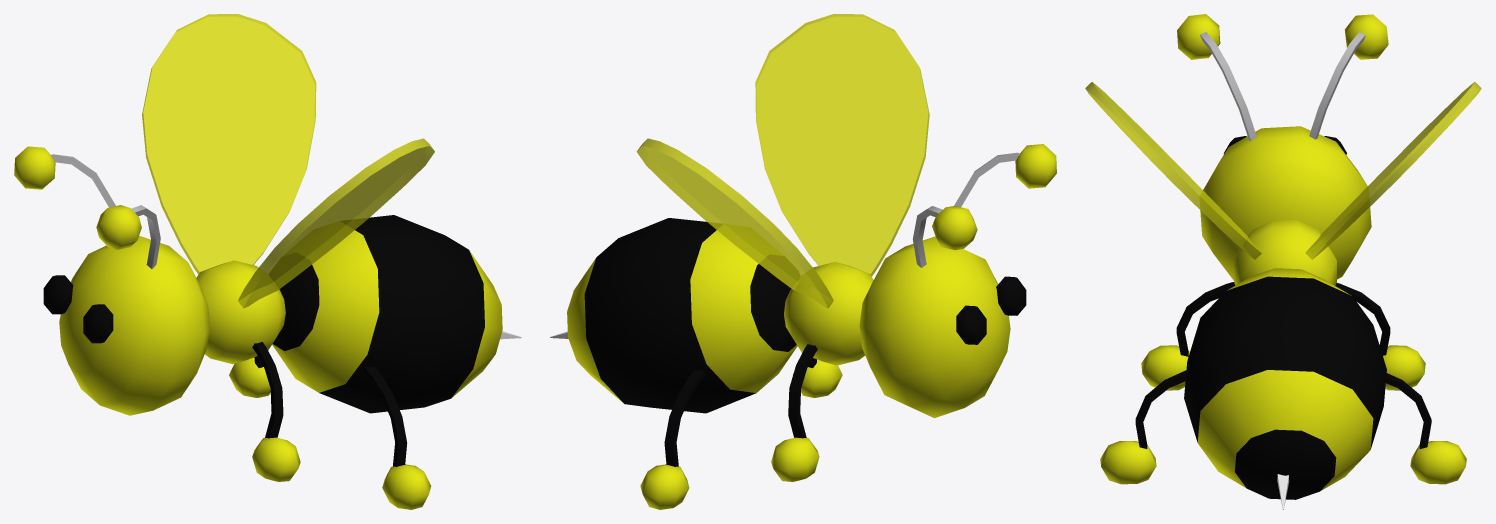
The model's file is toi uu.gltf.
3 renders of one model, left to right at view 1: azimuth 30°, elevation 25°; view 2: azimuth 150°, elevation 25°; view 3: azimuth 270°, elevation 25°, orthographic.
Parts seen in each view (by area): view 1: node-0; view 2: node-0; view 3: node-0.
Boxes of the visible parts, box(x1,y1,x2,y2) form: node-0: box(14, 14, 521, 509); node-0: box(550, 14, 1056, 509); node-0: box(1085, 14, 1481, 509).
Size of the model in its own units: 130 by 101 by 95.1.
